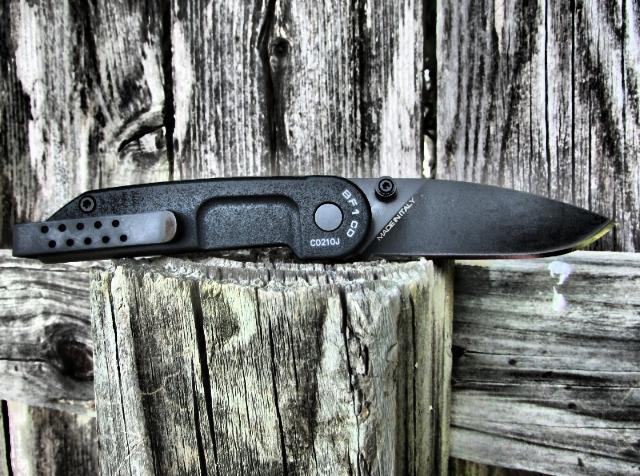knife: (320, 171, 628, 267)
